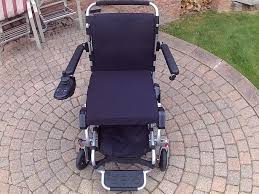wheelchair: (54, 6, 179, 186)
